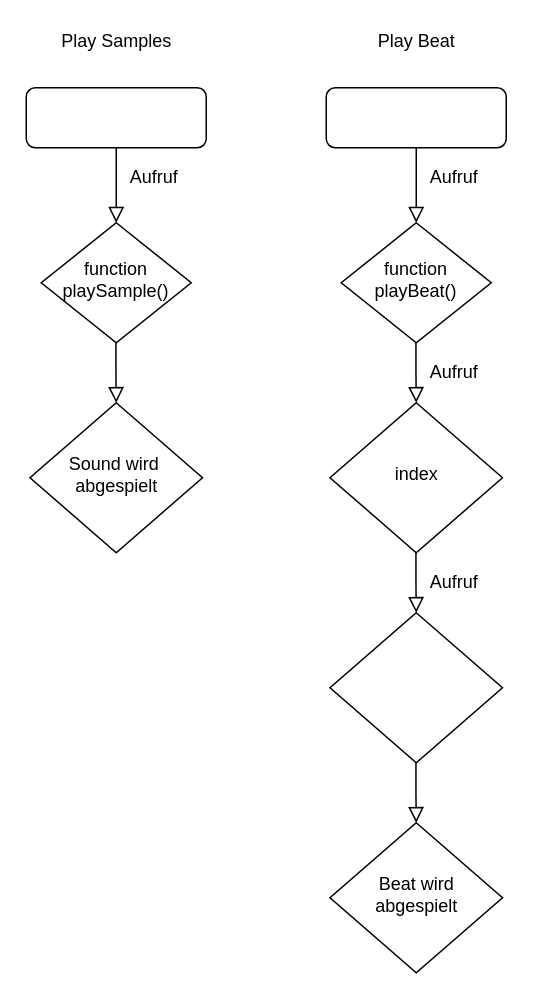
Image size: 555x999. Some labels were removed from this diagram. The shapes that lost their labels are listed below. From the top down, each one's centre as x and y in pixels, then its label:
At pixel 115 117: "onclick Drumpad Button".
At pixel 415 117: "onclick Play Button".
At pixel 415 687: "function startBeat()".
